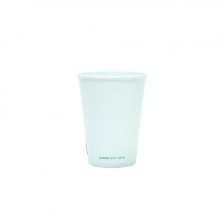paper_cup: (71, 67, 151, 170)
